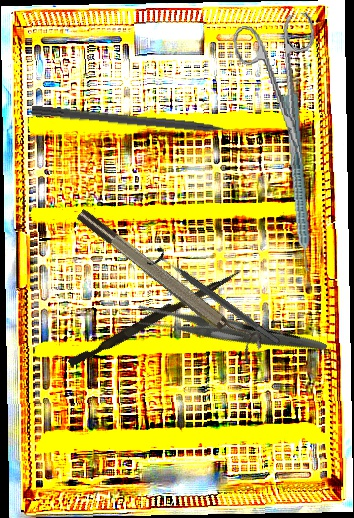Dressing Forceps: (131, 258, 328, 407)
Fixation Ring: (73, 197, 268, 364), (145, 244, 286, 353)
Handpiece: (275, 81, 314, 273)
Iris Scissors: (230, 11, 335, 174)
Pusher: (67, 263, 242, 372), (30, 104, 253, 141)
